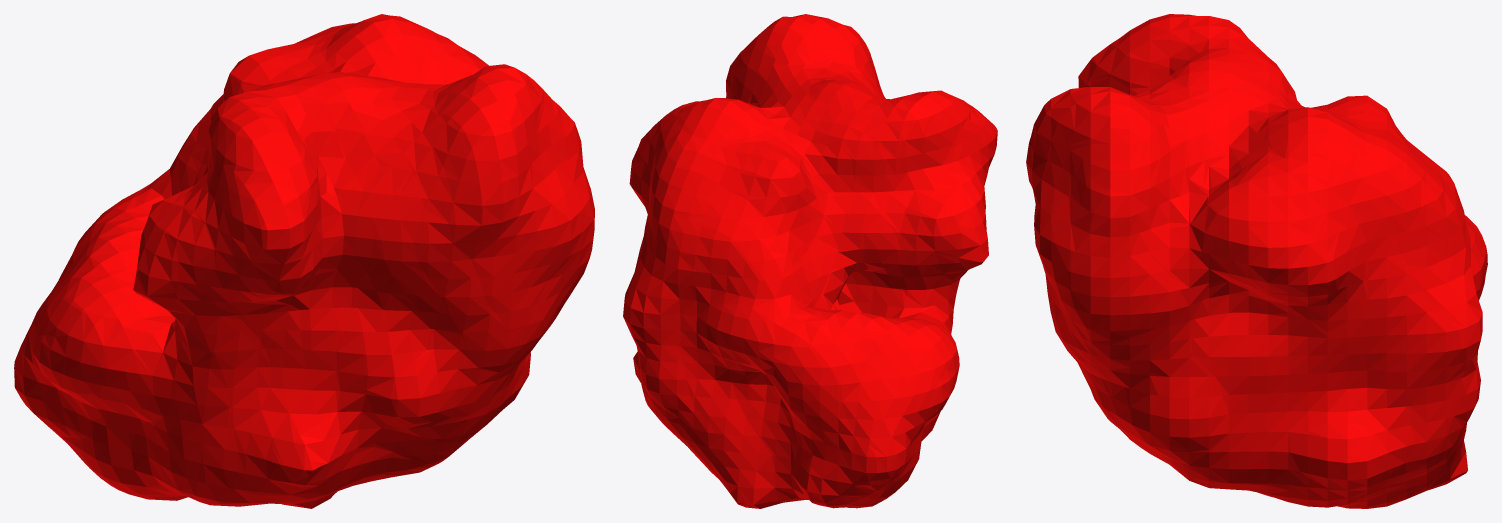
Rendered from yhbW_coarse.dae.
The picture shows the model from 3 angles, left to right: view 1: azimuth 30°, elevation 25°; view 2: azimuth 150°, elevation 25°; view 3: azimuth 270°, elevation 25°; orthographic projection. The views are drawn at different scales.
Parts seen in each view (by area): view 1: yhbW; view 2: yhbW; view 3: yhbW.
Boxes of the visible parts, bbox=[...] form: yhbW: bbox=[14, 14, 594, 508]; yhbW: bbox=[623, 14, 997, 508]; yhbW: bbox=[1026, 14, 1487, 508].
Size of the model in its own units: 52.18 by 54.62 by 51.01.
